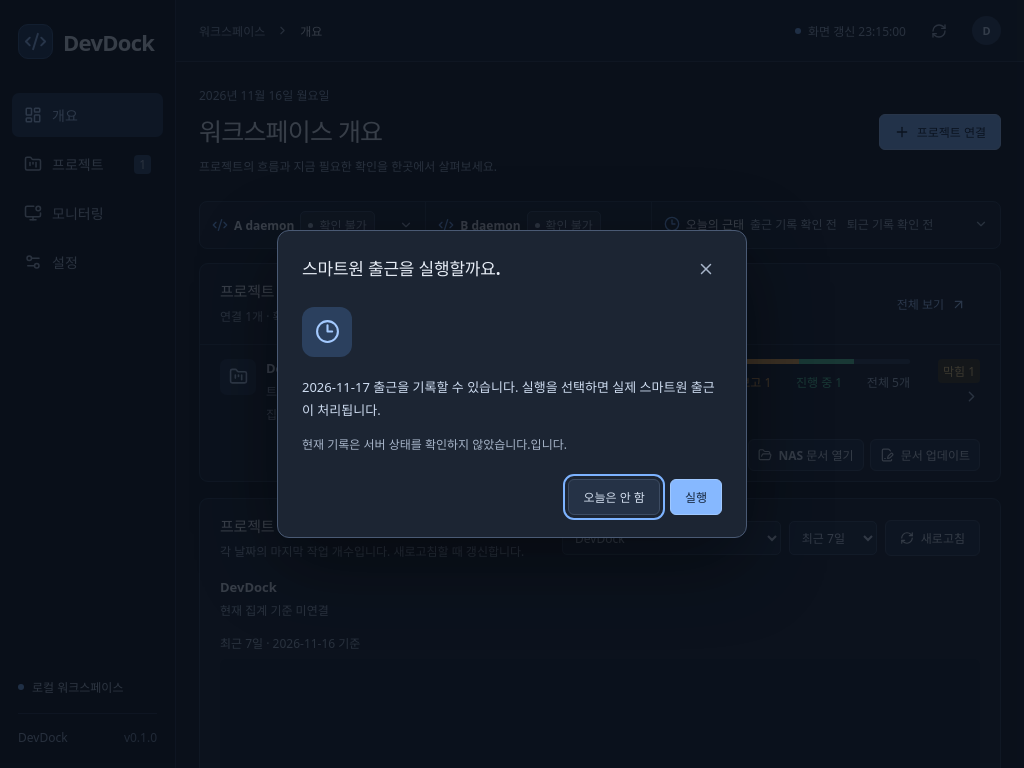
Scenario: DevDock dashboard › shows an expired check-in answer without success
Expected: the text "트레이 동작 구현" is shown, [266, 383, 350, 400]
What coordinates should you click on to do the following:
click the button "실행"
I would click on:
 (696, 497)
Its box is [670, 479, 722, 515].
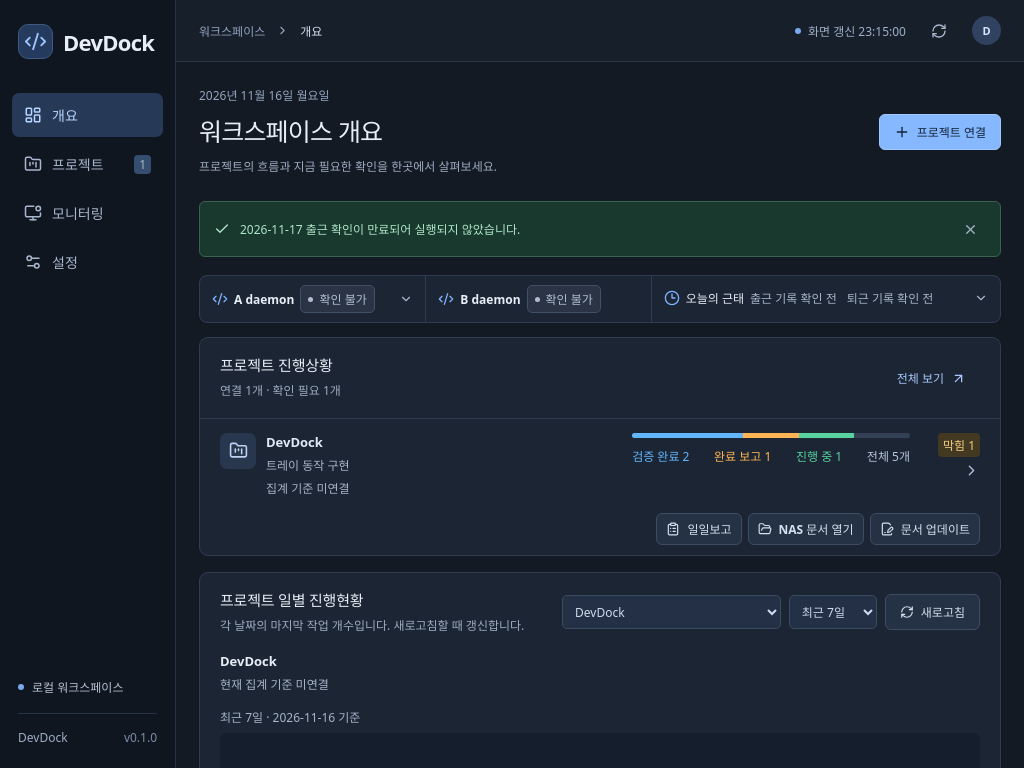
Now the text "2026-11-17 출근 확인이 만료되어 실행되지 않았습니다." is shown, box [240, 221, 520, 238]
